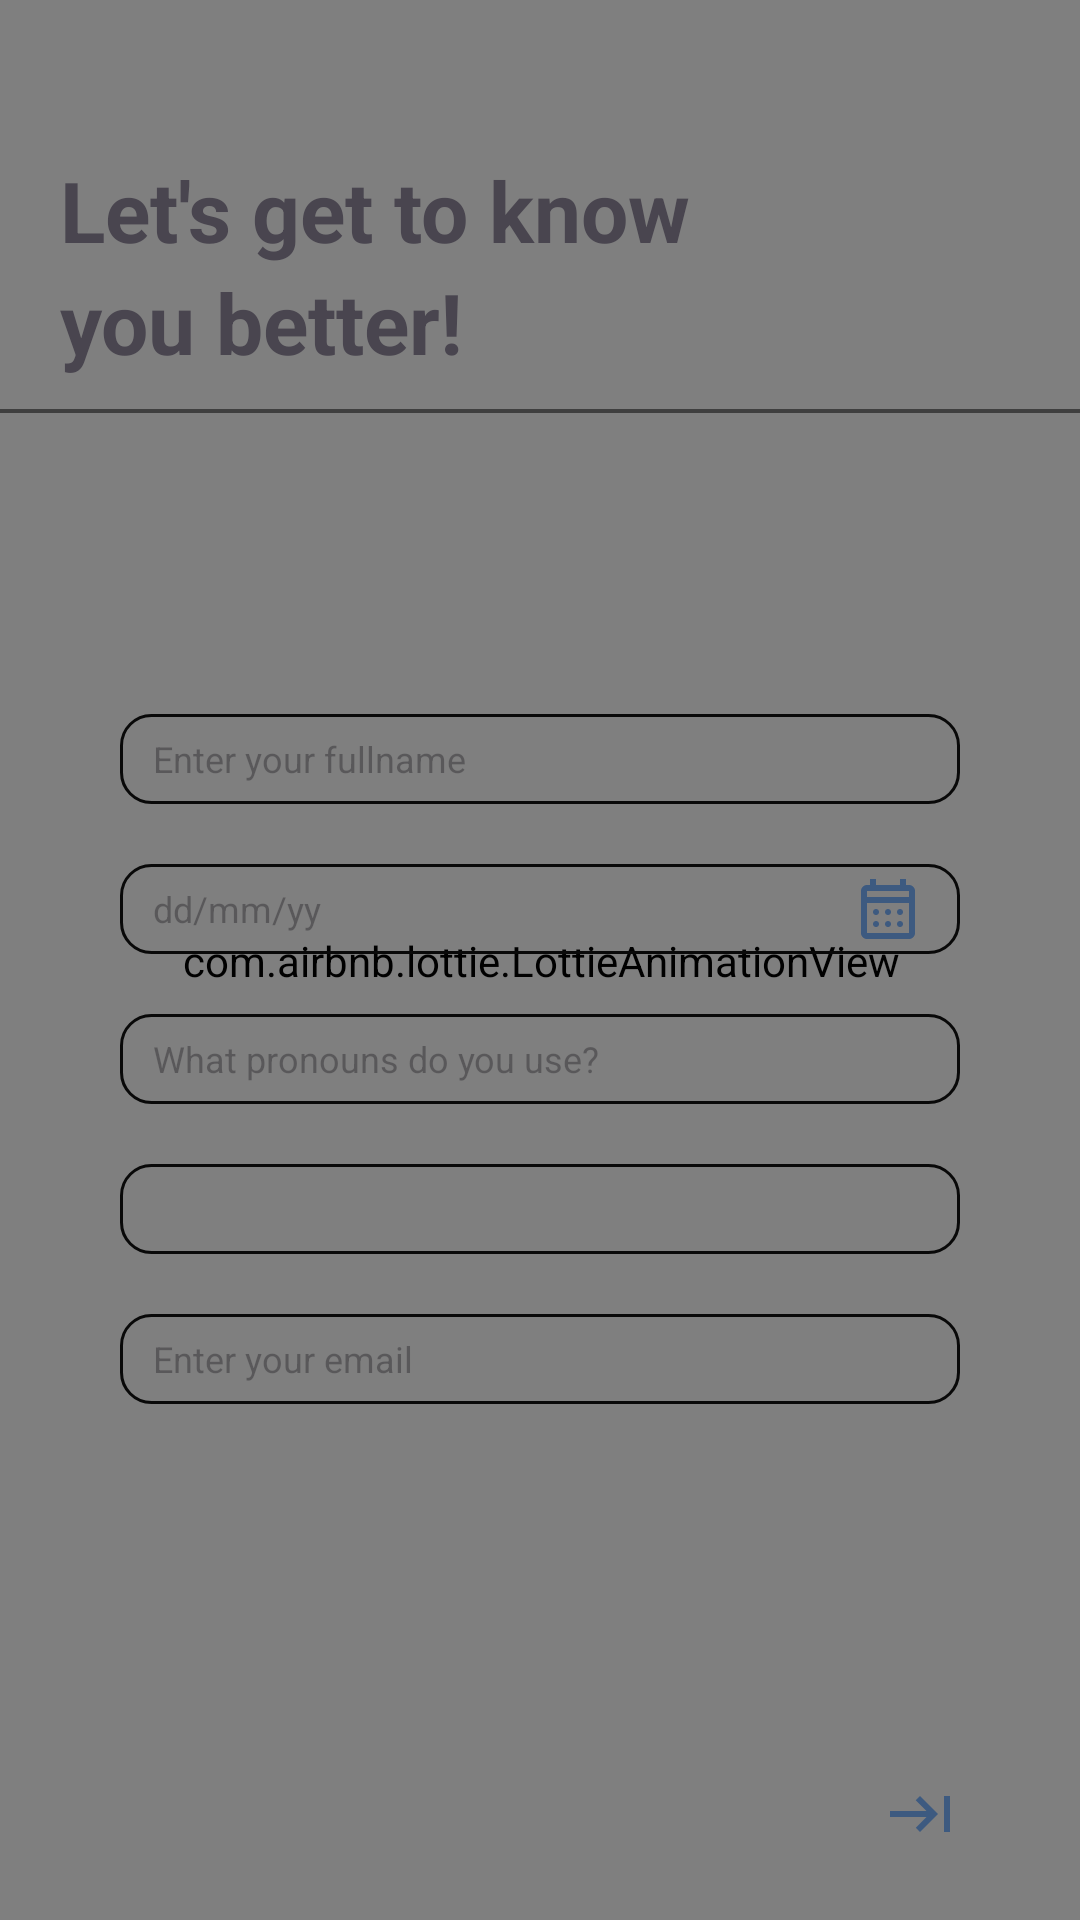

Where icons sit on this 1080px x 1920px app screen, as {"x1": x1, "y1": y1, "x2": x2, "y2": y2}:
next arrow right: {"x1": 890, "y1": 1796, "x2": 950, "y2": 1832}
